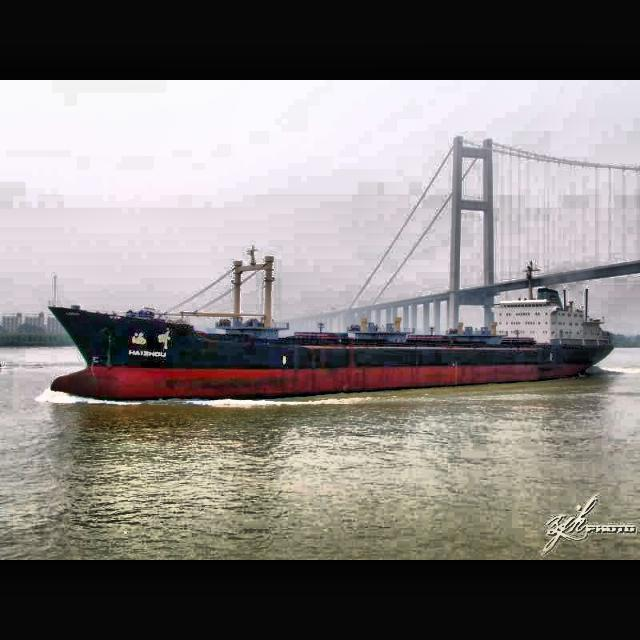bulk_carrier: (48, 247, 614, 406)
